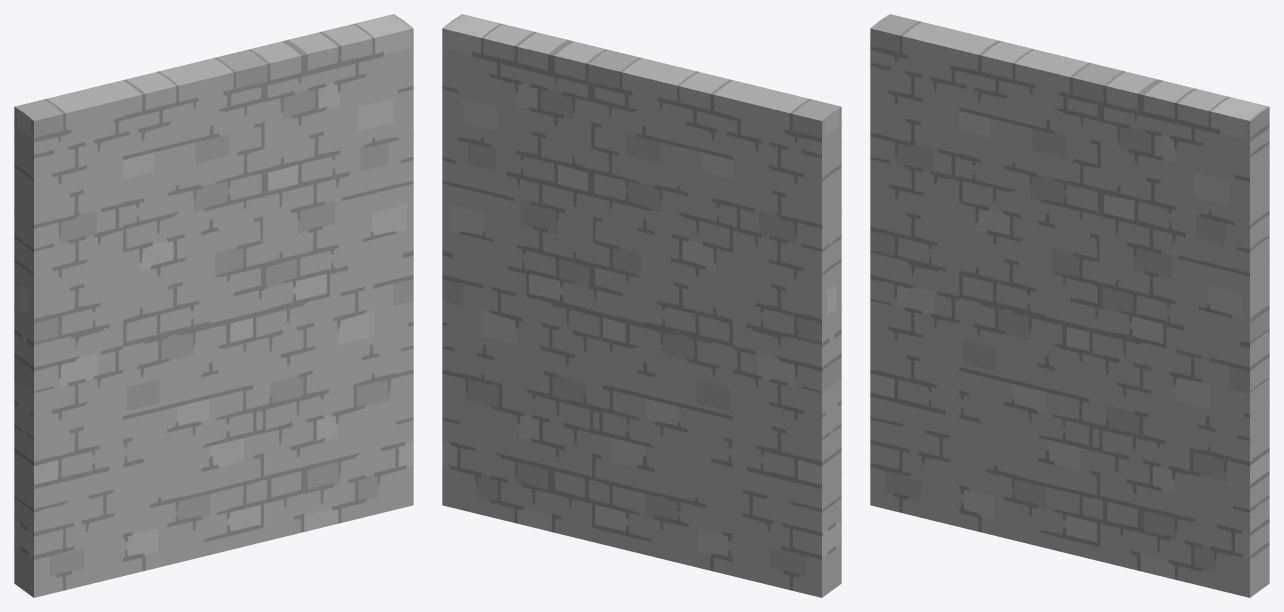
The model's file is SM_Bld_Base_Wall_01.glb.
3 views of the same model, side by side, from view 1: azimuth 30°, elevation 25°; view 2: azimuth 150°, elevation 25°; view 3: azimuth 330°, elevation 25° (orthographic).
Visible parts, largest first — view 1: SM_Bld_Base_Wall_01; view 2: SM_Bld_Base_Wall_01; view 3: SM_Bld_Base_Wall_01.
Part boxes in pixels (x1,y1,x2,y2): SM_Bld_Base_Wall_01: [14, 14, 413, 597]; SM_Bld_Base_Wall_01: [442, 14, 841, 597]; SM_Bld_Base_Wall_01: [870, 14, 1269, 597].
Size of the model in its own units: 2.5 by 3.01 by 0.225.
Materials: 2 (2 with a texture image).
